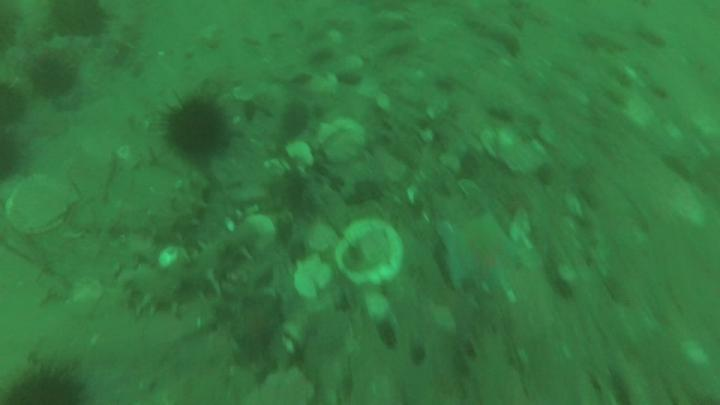echinus: (167, 97, 229, 158), (4, 370, 78, 405), (51, 2, 108, 37), (34, 59, 74, 97)
holothurian: (134, 244, 235, 315), (75, 204, 191, 243)
scallop: (337, 217, 406, 282), (9, 176, 69, 234), (296, 260, 334, 300), (238, 213, 279, 249), (483, 130, 524, 160), (365, 292, 392, 321), (287, 143, 317, 167), (157, 248, 183, 265)
starfish: (438, 213, 530, 288), (236, 314, 277, 361)
